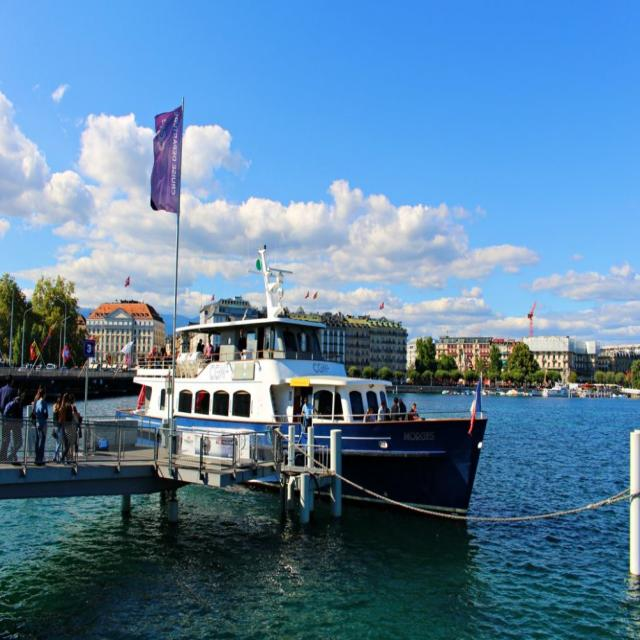houseboat: (138, 289, 481, 503)
